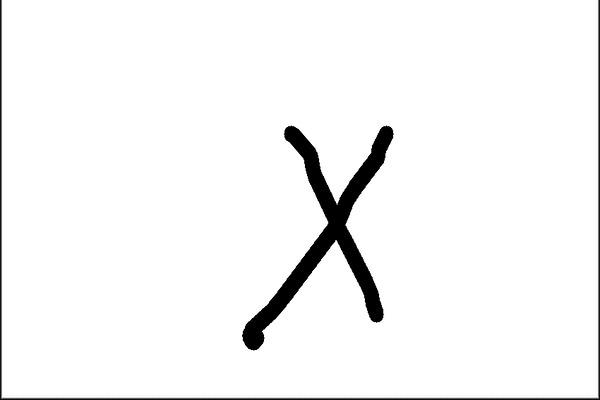X: (222, 106, 413, 386)
